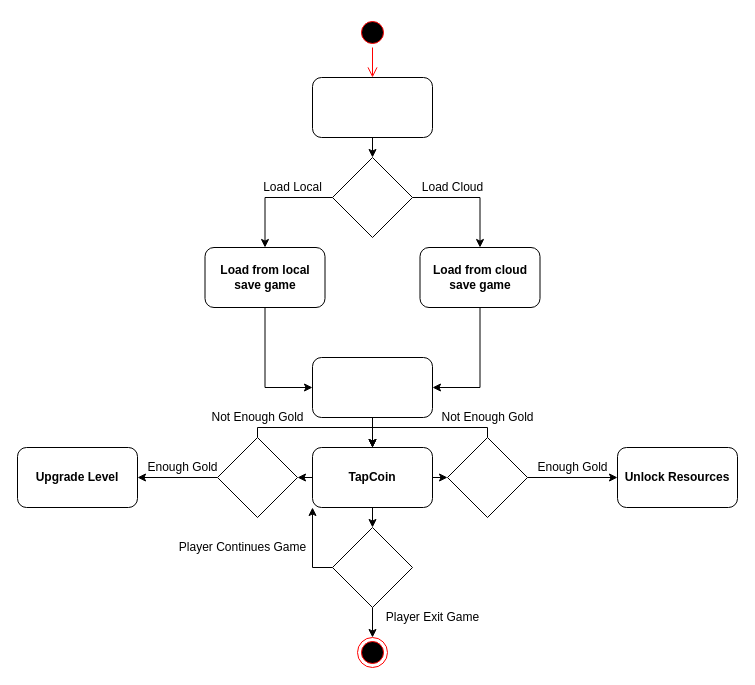
Image size: 755x685. Some labels were removed from this diagram. Each missing label, with the centre of its shape:
AutoCollect Gold: (x=372, y=387)
Load Game: (x=372, y=107)
